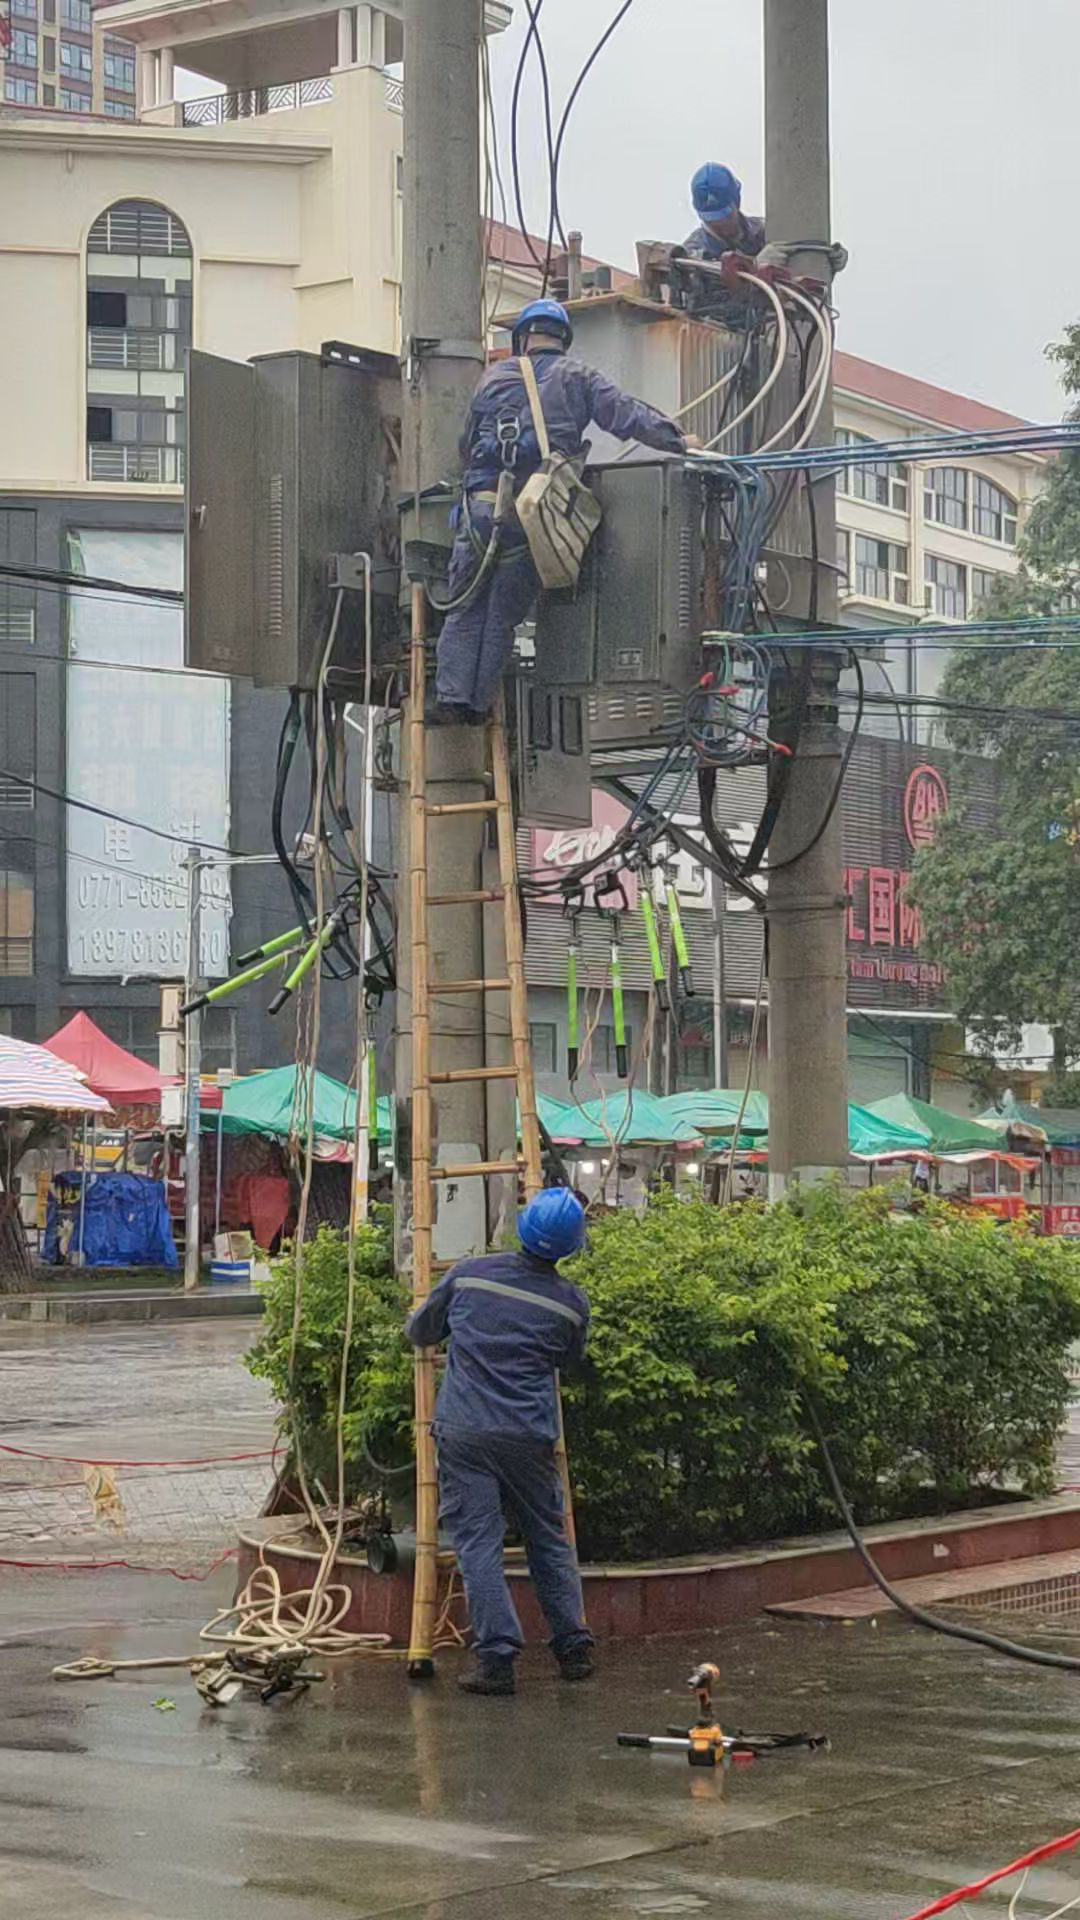halt: (518, 1191, 589, 1266), (690, 164, 746, 232), (510, 302, 576, 357)
